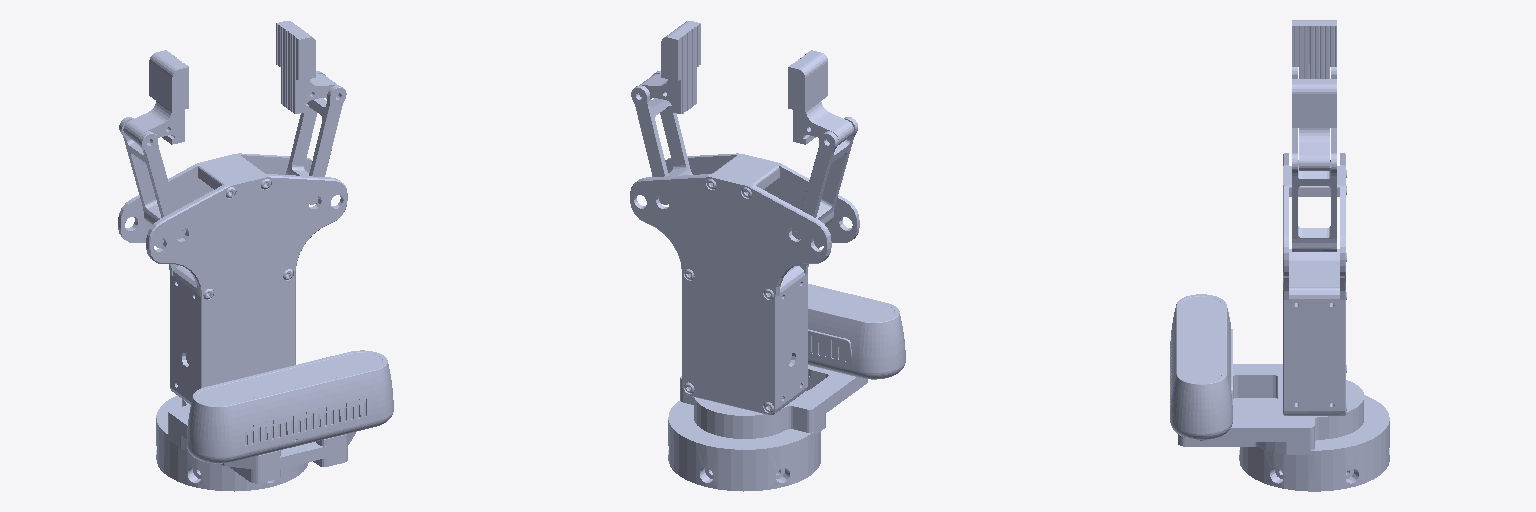
URDF robot description (AIRBOT_hand):
<?xml version="1.0" encoding="utf-8"?>
<!-- This URDF was automatically created by SolidWorks to URDF Exporter! Originally created by [author] ([email redacted]) 
     Commit Version: 1.6.0-4-g7f85cfe  Build Version: 1.6.7995.38578
     For more information, please see http://wiki.ros.org/sw_urdf_exporter -->
<robot
  name="AIRBOT_hand">
  <mujoco>
    <compiler meshdir="../all/" balanceinertia="true" discardvisual="false" />
  </mujoco>

  <link name="root">
    <inertial>
      <mass value="0.01"/>
      <inertia ixx="1e-4" ixy="0.0" ixz="0.0" iyy="1e-4" iyz="0.0" izz="1e-4"/>
    </inertial>
  </link>
  <link name="root1">
    <inertial>
      <mass value="0.01"/>
      <inertia ixx="1e-4" ixy="0.0" ixz="0.0" iyy="1e-4" iyz="0.0" izz="1e-4"/>
    </inertial>
  </link>
  <link name="root2">
    <inertial>
      <mass value="0.01"/>
      <inertia ixx="1e-4" ixy="0.0" ixz="0.0" iyy="1e-4" iyz="0.0" izz="1e-4"/>
    </inertial>
  </link>
  <link name="root3">
    <inertial>
      <mass value="0.01"/>
      <inertia ixx="1e-4" ixy="0.0" ixz="0.0" iyy="1e-4" iyz="0.0" izz="1e-4"/>
    </inertial>
  </link>
  <link name="root4">
    <inertial>
      <mass value="0.01"/>
      <inertia ixx="1e-4" ixy="0.0" ixz="0.0" iyy="1e-4" iyz="0.0" izz="1e-4"/>
    </inertial>
  </link>
  <link name="root5">
    <inertial>
      <mass value="1"/>
      <inertia ixx="0.05" ixy="0.0" ixz="0.0" iyy="0.05" iyz="0.0" izz="0.05"/>
    </inertial>
  </link>
  <joint name="x_joint" type="prismatic">
    <parent link="root"/>
    <child link="root1"/>
    <axis xyz="1 0 0"/>
    <limit lower="-10" upper="10"/>
  </joint>
  <joint name="y_joint" type="prismatic">
    <parent link="root1"/>
    <child link="root2"/>
    <axis xyz="0 1 0"/>
    <limit lower="-10" upper="10"/>
  </joint>
  <joint name="z_joint" type="prismatic">
    <parent link="root2"/>
    <child link="root3"/>
    <axis xyz="0 0 1"/>
    <limit lower="-10" upper="10"/>
  </joint>
  <joint name="x_rotation_joint" type="continuous">
    <parent link="root3"/>
    <child link="root4"/>
    <axis xyz="1 0 0"/>
  </joint>
  <joint name="y_rotation_joint" type="continuous">
    <parent link="root4"/>
    <child link="root5"/>
    <axis xyz="0 1 0"/>
  </joint>
  <joint name="z_rotation_joint" type="continuous">
    <parent link="root5"/>
    <child link="gripper_link"/>
    <axis xyz="0 0 1"/>
  </joint>
  <link
    name="gripper_link">
    <inertial>
      <origin
        xyz="-0.000179 -0.012920 0.115245"
        rpy="0 0 0" />
      <mass
        value="0.202483822224683" />
      <inertia
        ixx="8.72656224038094E-05"
        ixy="2.1157802312087E-09"
        ixz="4.46212258304102E-07"
        iyy="0.000110884338373626"
        iyz="3.53923491606382E-06"
        izz="9.50216775187288E-05" />
    </inertial>
    <visual>
      <origin
        xyz="0 0 -0.003"
        rpy="0 0 0" />
      <geometry>
        <mesh
          filename="../all/gripper_link.obj" />
      </geometry>
      <material
        name="phong1SG">
        <color
          rgba="0.792156862745098 0.819607843137255 0.933333333333333 1" />
      </material>
    </visual>
    <collision>
      <origin
        xyz="0 0 -0.003"
        rpy="0 0 0" />
      <geometry>
        <mesh
          filename="../all/gripper_link.obj" />
      </geometry>
    </collision>
  </link>
  <link
    name="gripper_link10">
    <inertial>
      <origin
        xyz="0.0162376775855017 0.00170828143838967 1.60704782814491E-14"
        rpy="0 0 0" />
      <mass
        value="0.0248574193257273" />
      <inertia
        ixx="1.1187321281772E-07"
        ixy="-6.68088965340704E-19"
        ixz="-1.14085928959275E-18"
        iyy="6.84359115875508E-07"
        iyz="-3.99246934174549E-19"
        izz="5.89072994948579E-07" />
    </inertial>
    <visual>
      <origin
        xyz="0 0 0"
        rpy="0 0 0" />
      <geometry>
        <mesh
          filename="../all/gripper_link10.obj" />
      </geometry>
      <material
        name="lambert2SG">
        <color
          rgba="0.792156862745098 0.819607843137255 0.933333333333333 1" />
      </material>
    </visual>
    <collision>
      <origin
        xyz="0 0 0"
        rpy="0 0 0" />
      <geometry>
        <mesh
          filename="../all/gripper_link10.obj" />
      </geometry>
    </collision>
  </link>
  <joint
    name="joint_gripper10"
    type="prismatic">
    <origin
      xyz="-0.03 0.00036 0.18735"
      rpy="-1.5708 -1.304 3.1416" />
    <parent
      link="gripper_link" />
    <child
      link="gripper_link10" />
    <axis
      xyz="0 1 0" />
    <limit
      lower="-10"
      upper="10"
      effort="20"
      velocity="0.2" />
  </joint>
  <link
    name="gripper_link11">
    <inertial>
      <origin
        xyz="-0.0110043692378349 0.00972866237979003 -3.15436854414486E-09"
        rpy="0 0 0" />
      <mass
        value="0.0450681926243327" />
      <inertia
        ixx="1.99225999101227E-07"
        ixy="9.189631443366E-08"
        ixz="1.32669175648538E-13"
        iyy="5.14550853833888E-07"
        iyz="-4.49972931710022E-14"
        izz="5.32027763416069E-07" />
    </inertial>
    <visual>
      <origin
        xyz="0 0 0"
        rpy="0 0 0" />
      <geometry>
        <mesh
          filename="../all/gripper_link11.obj" />
      </geometry>
      <material
        name="lambert2SG">
        <color
          rgba="0.792156862745098 0.819607843137255 0.933333333333333 1" />
      </material>
    </visual>
    <collision>
      <origin
        xyz="0 0 0"
        rpy="0 0 0" />
      <geometry>
        <mesh
          filename="../all/gripper_link11.obj" />
      </geometry>
    </collision>
  </link>
  <joint
    name="joint_gripper11"
    type="fixed">
    <origin
      xyz="0.041998 -0.00037577 0"
      rpy="0 0 2.8658" />
    <parent
      link="gripper_link10" />
    <child
      link="gripper_link11" />
    <!-- <axis
      xyz="0 0 1" />
    <limit
      lower="-10"
      upper="10"
      effort="20"
      velocity="0.2" /> -->
  </joint>
  <link
    name="gripper_link20">
    <inertial>
      <origin
        xyz="0.0160458916846533 0.00170815882510347 -1.61815005839117E-14"
        rpy="0 0 0" />
      <mass
        value="0.024857419325728" />
      <inertia
        ixx="1.11873212817726E-07"
        ixy="6.5445041140093E-19"
        ixz="1.13838047913434E-18"
        iyy="6.84359115875493E-07"
        iyz="-3.98790262211301E-19"
        izz="5.8907299494856E-07" />
    </inertial>
    <visual>
      <origin
        xyz="0 0 0"
        rpy="0 0 0" />
      <geometry>
        <mesh
          filename="../all/gripper_link20.obj" />
      </geometry>
      <material
        name="lambert2SG">
        <color
          rgba="0.792156862745098 0.819607843137255 0.933333333333333 1" />
      </material>
    </visual>
    <collision>
      <origin
        xyz="0 0 0"
        rpy="0 0 0" />
      <geometry>
        <mesh
          filename="../all/gripper_link20.obj" />
      </geometry>
    </collision>
  </link>
  <joint
    name="joint_gripper20"
    type="prismatic">
    <origin
      xyz="0.033 0.00036 0.18664"
      rpy="1.5708 -1.304 0" />
    <parent
      link="gripper_link" />
    <child
      link="gripper_link20" />
    <axis
      xyz="0 1 0" />
    <limit
      lower="-10"
      upper="10"
      effort="20"
      velocity="0.2" />
  </joint>
  <link
    name="gripper_link21">
    <inertial>
      <origin
        xyz="-0.0117059608928904 -0.0140030860218414 3.11077152925776E-09"
        rpy="0 0 0" />
      <mass
        value="0.0450681912675432" />
      <inertia
        ixx="2.02615006762524E-07"
        ixy="-9.74786442765277E-08"
        ixz="-1.30502494006714E-13"
        iyy="5.11161832405036E-07"
        iyz="-4.71432886532517E-14"
        izz="5.32027750665231E-07" />
    </inertial>
    <visual>
      <origin
        xyz="0 0 0"
        rpy="0 0 0" />
      <geometry>
        <mesh
          filename="../all/gripper_link21.obj" />
      </geometry>
      <material
        name="lambert2SG">
        <color
          rgba="0.792156862745098 0.819607843137255 0.933333333333333 1" />
      </material>
    </visual>
    <collision>
      <origin
        xyz="0 0 0"
        rpy="0 0 0" />
      <geometry>
        <mesh
          filename="../all/gripper_link21.obj" />
      </geometry>
    </collision>
  </link>
  <joint
    name="joint_gripper21"
    type="fixed">
    <origin
      xyz="0.041998 -0.00037577 0"
      rpy="0 0 -2.8837" />
    <parent
      link="gripper_link20" />
    <child
      link="gripper_link21" />
    <!-- <axis
      xyz="0 0 1" /> -->
    <!-- <limit
      lower="-10"
      upper="10"
      effort="20"
      velocity="0.2" /> -->
    <!-- <mimic
      joint="joint_gripper10"
      multiplier="1"
      offset="0" /> -->
  </joint>
  <link
    name="custom_end_link">
    <inertial>
      <origin
        xyz="0 0 0"
        rpy="0 0 0" />
      <mass
        value="1E-15" />
      <inertia
        ixx="1E-11"
        ixy="1E-15"
        ixz="1E-15"
        iyy="1E-11"
        iyz="1E-15"
        izz="1E-11" />
    </inertial>
  </link>
  <joint
    name="joint_custom_end"
    type="fixed">
    <origin
      xyz="0 0 0.255"
      rpy="1.5708 -1.5708 0" />
    <parent
      link="gripper_link" />
    <child
      link="custom_end_link" />
  </joint>
</robot>

--- Facts derived from the render (not from the file) ---
Views: 3 orthographic renders of the robot side by side, from view 1: azimuth 30°, elevation 25°; view 2: azimuth 150°, elevation 25°; view 3: azimuth 270°, elevation 25°.
Model AIRBOT_hand with 12 links and 11 joints (3 continuous, 5 prismatic, 3 fixed), rooted at root, posed all joints at 0.
Visible links, largest first — view 1: gripper_link, gripper_link11, gripper_link21, gripper_link20, gripper_link10; view 2: gripper_link, gripper_link11, gripper_link21, gripper_link20, gripper_link10; view 3: gripper_link, gripper_link21, gripper_link20, gripper_link11.
Boxes of the visible links, x1,y1,x2,y2 form: gripper_link: (118, 153, 393, 491); gripper_link11: (123, 50, 188, 145); gripper_link21: (276, 21, 338, 113); gripper_link20: (285, 71, 346, 204); gripper_link10: (119, 117, 182, 237); gripper_link: (630, 153, 905, 491); gripper_link11: (788, 50, 853, 144); gripper_link21: (639, 21, 700, 113); gripper_link20: (631, 71, 692, 204); gripper_link10: (795, 117, 857, 237); gripper_link: (1170, 153, 1389, 491); gripper_link21: (1292, 79, 1336, 170); gripper_link20: (1292, 153, 1336, 251); gripper_link11: (1292, 20, 1336, 78).
Bounding box of the posed robot: 0.0926 × 0.0875 × 0.181 m (x, y, z).
5 mesh visuals loaded from 5 distinct referenced files (5 OBJ).